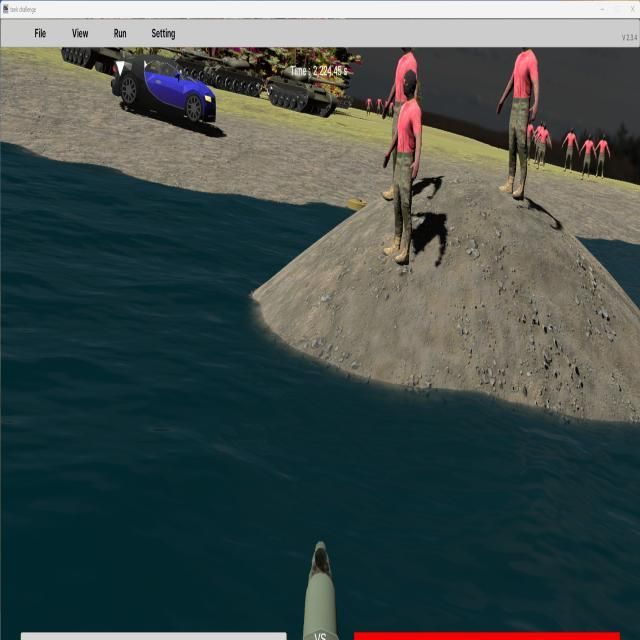Human: (383, 68, 423, 264), (496, 29, 539, 199), (384, 26, 420, 197), (579, 132, 597, 182), (535, 122, 552, 170), (562, 127, 579, 174), (594, 132, 610, 181)
Tank: (267, 64, 348, 119), (188, 53, 263, 98)
car: (113, 54, 218, 129)
